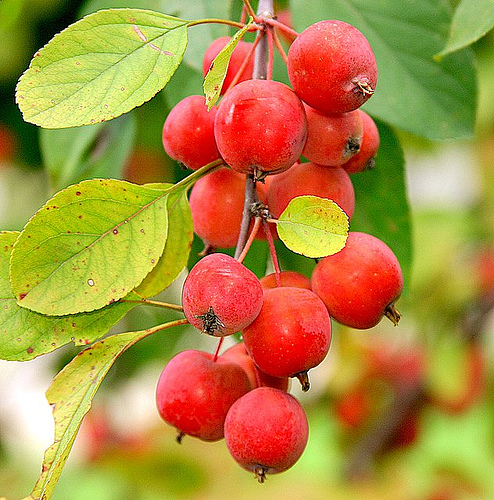apple: (305, 229, 412, 351), (148, 346, 269, 449), (219, 380, 326, 491), (236, 287, 344, 389), (212, 77, 310, 186), (285, 16, 382, 112), (180, 249, 266, 333)
